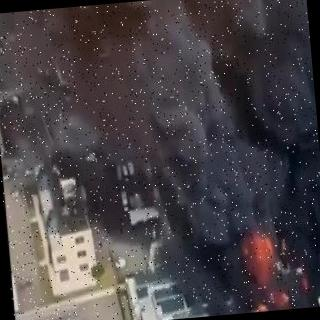smoke: (148, 201, 228, 320)
